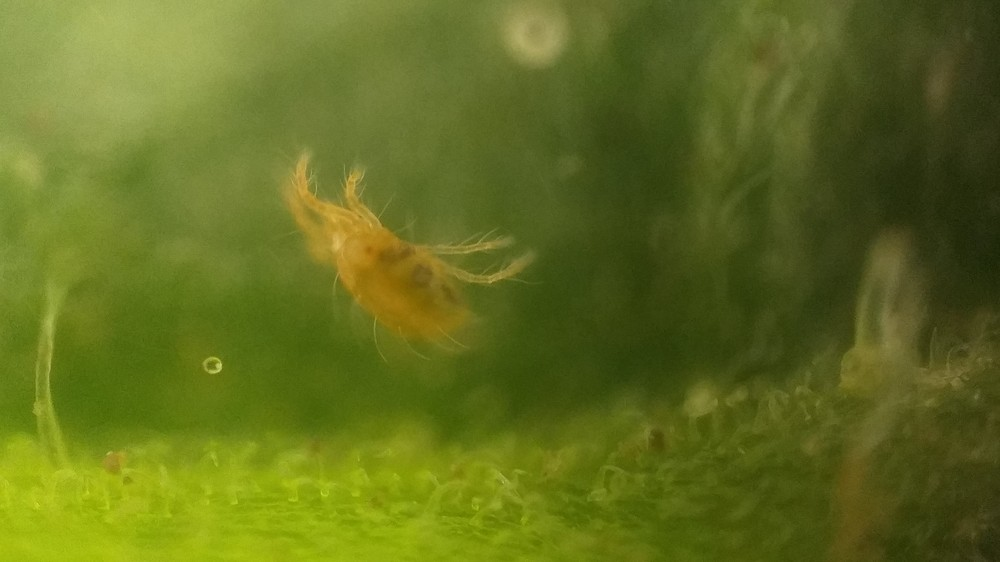Aracnido Rojo: (254, 140, 556, 386)
